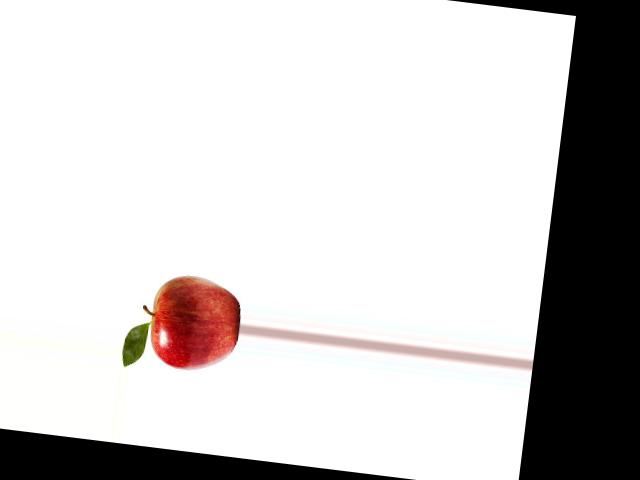apple: (139, 269, 245, 381)
